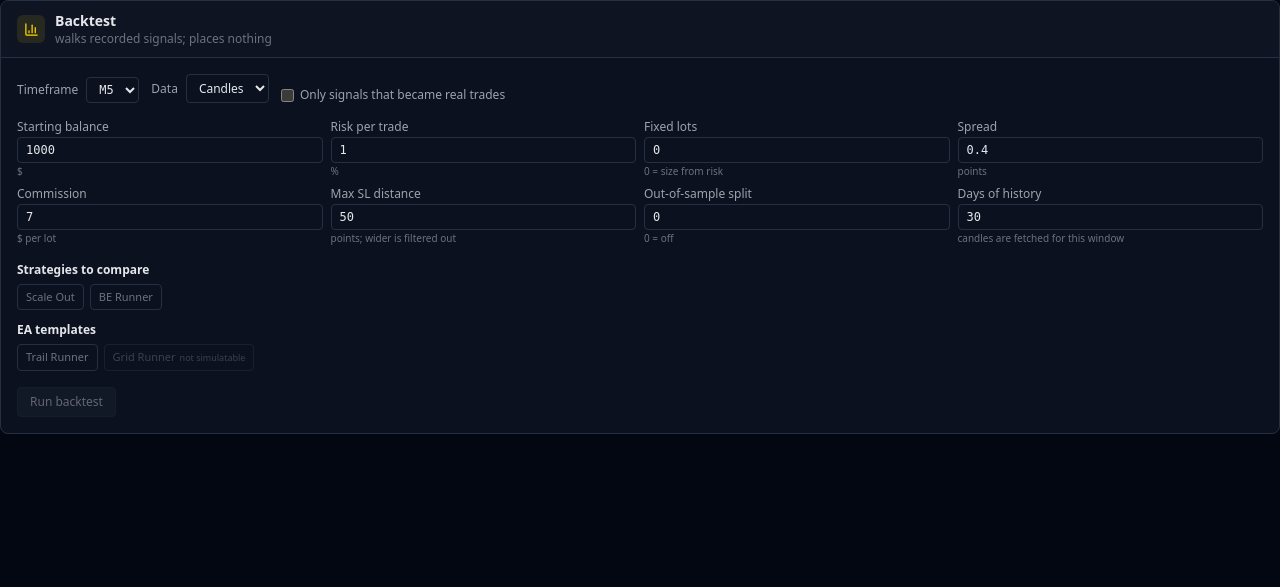
the results › shows one row per strategy with its numbers
The image size is (1280, 587).
Click the button "Scale Out".
click(50, 297)  # box left=17, top=284, right=84, bottom=310
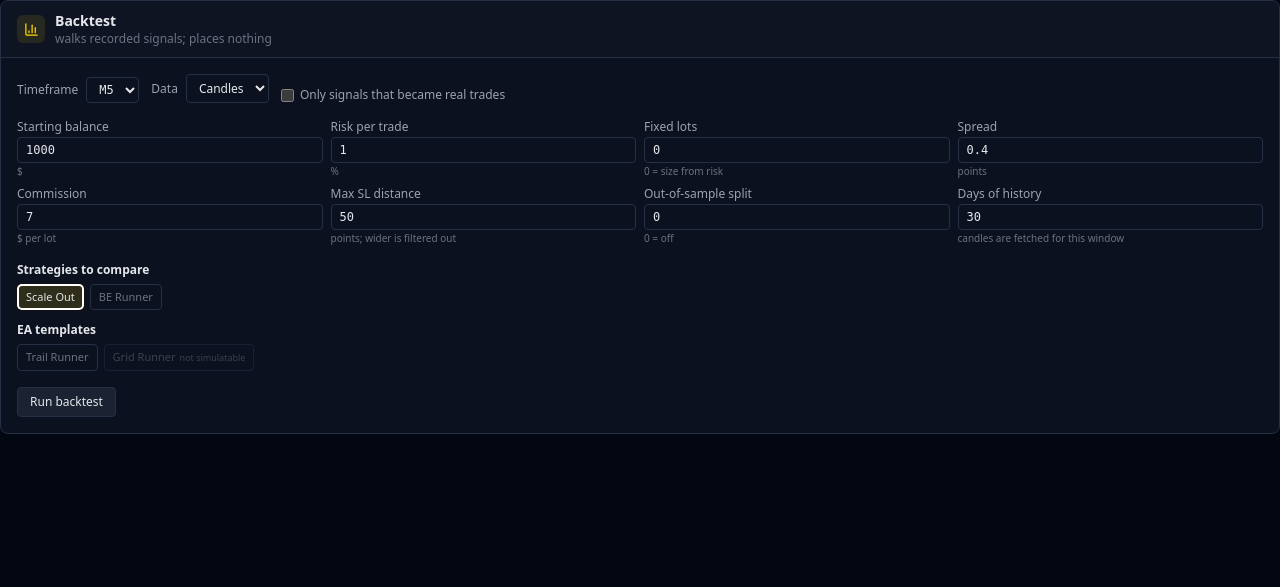
Click the button "Run backtest".
click(66, 402)  # box left=17, top=387, right=116, bottom=417
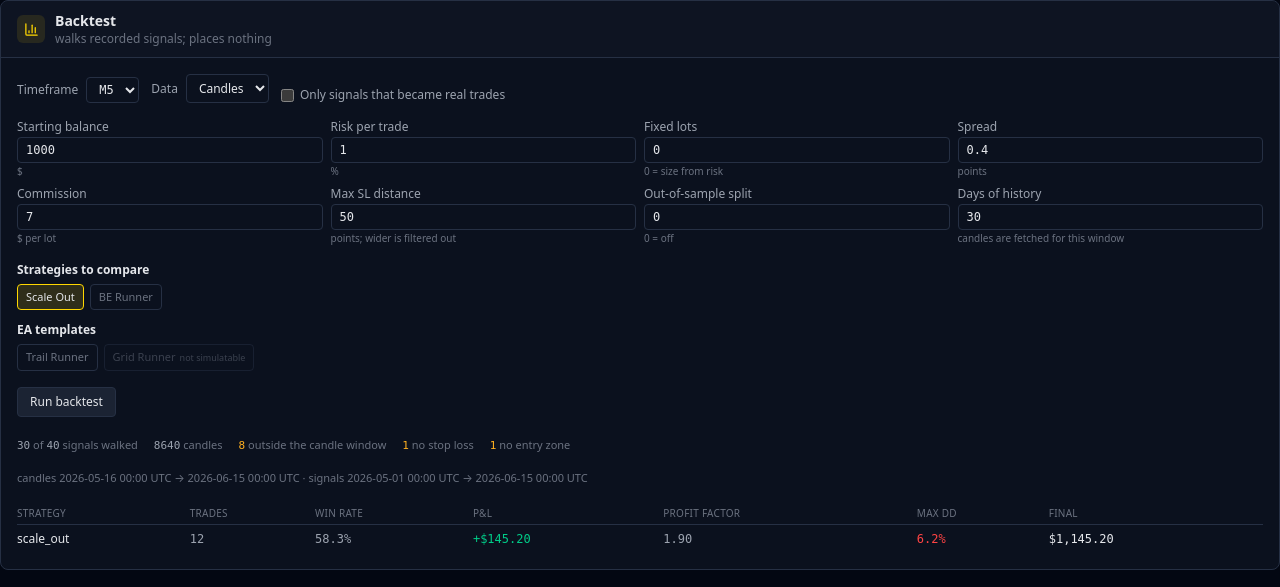
Check: the text "+$145.20" is shown, box left=473, top=524, right=663, bottom=553
Check: the text "58.3%" is shown, box left=315, top=524, right=473, bottom=553
Check: the text "1.90" is shown, box left=663, top=524, right=917, bottom=553
